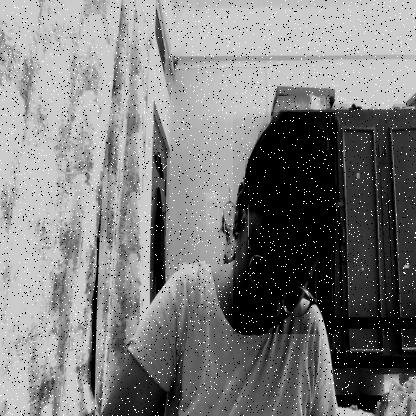Distracted: (233, 112, 335, 334)
